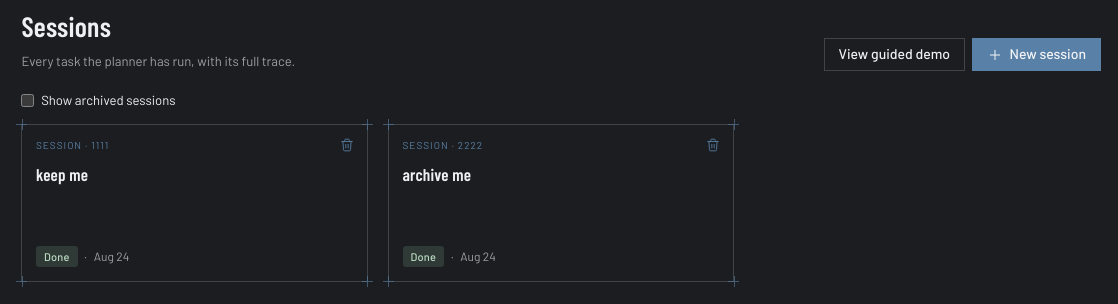
SessionListPage › archives a session card and removes it from the (unarchived) list
Expected: the heading "archive me" is shown, [402,164,471,184]
Click the button named "Archive session 2222". click: x=713, y=145
box: [700,132,726,158]
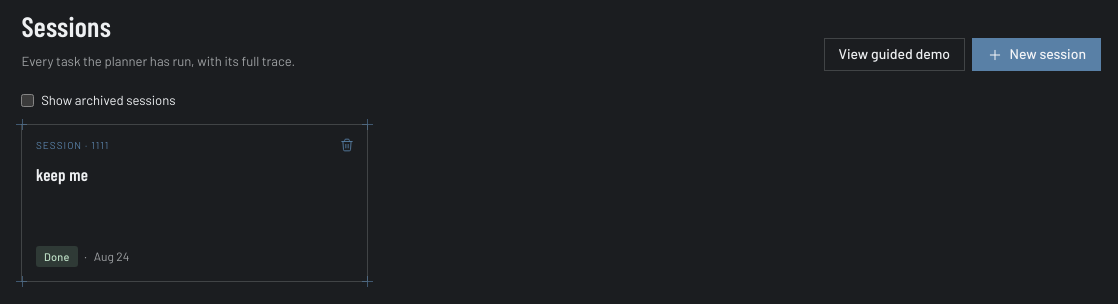
Expected: the heading "keep me" is shown, [36,164,88,184]
Now the link "archive me" is gone
